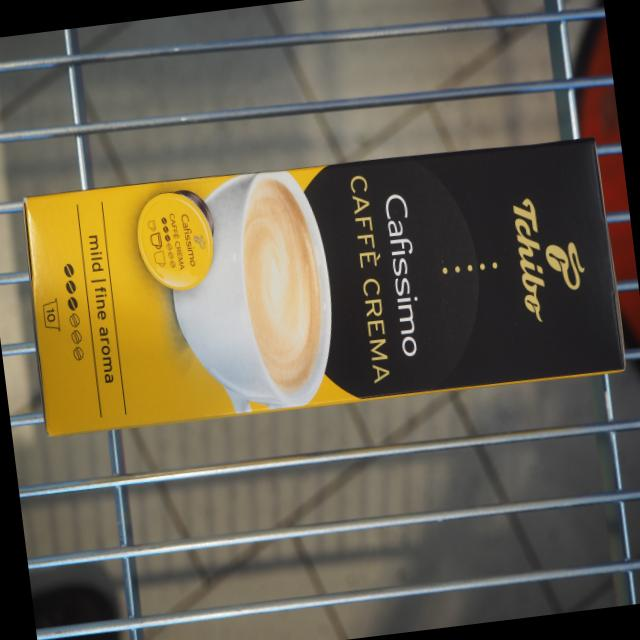Simo CCMild bigpack: (19, 132, 628, 441)
